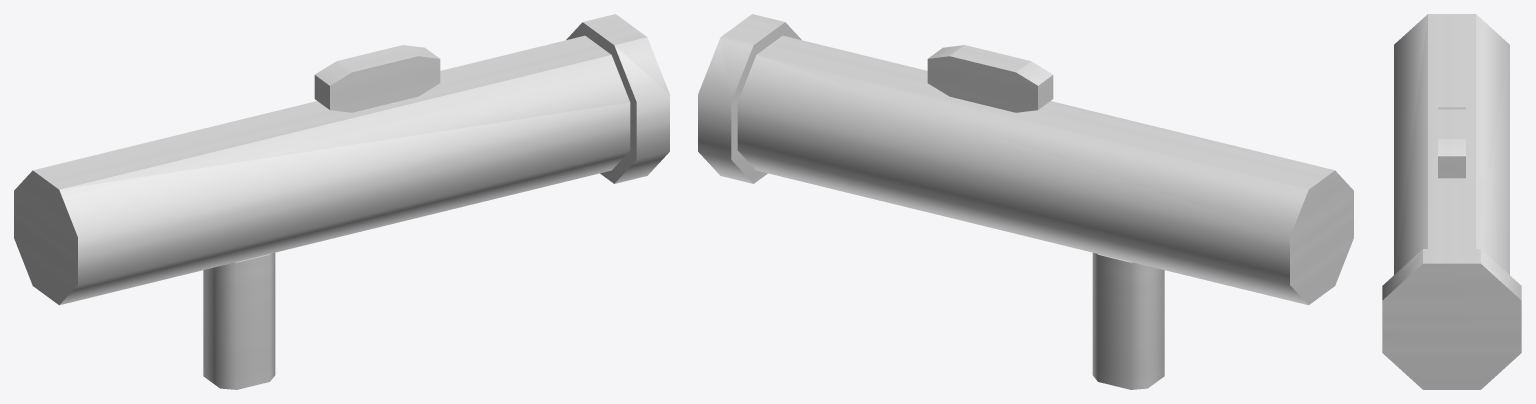
Rendered from launcher.obj.
3 renders of one model, left to right at view 1: azimuth 30°, elevation 25°; view 2: azimuth 150°, elevation 25°; view 3: azimuth 270°, elevation 25°, orthographic. The views are drawn at different scales.
Parts seen in each view (by area): view 1: receiver, front_sight, barrel_muzzle, stock_or_grip; view 2: receiver, front_sight, barrel_muzzle, stock_or_grip; view 3: receiver, barrel_muzzle, stock_or_grip.
Part boxes in pixels (x1,y1,x2,y2): receiver: [14, 35, 630, 305]; front_sight: [203, 252, 275, 389]; barrel_muzzle: [566, 14, 669, 183]; stock_or_grip: [314, 45, 440, 112]; receiver: [737, 35, 1353, 305]; front_sight: [1092, 252, 1164, 389]; barrel_muzzle: [698, 14, 801, 183]; stock_or_grip: [927, 45, 1053, 112]; receiver: [1394, 14, 1509, 274]; barrel_muzzle: [1382, 249, 1521, 389]; stock_or_grip: [1438, 107, 1465, 178].
Size of the model in its own units: 0.53 by 0.245 by 0.12.
